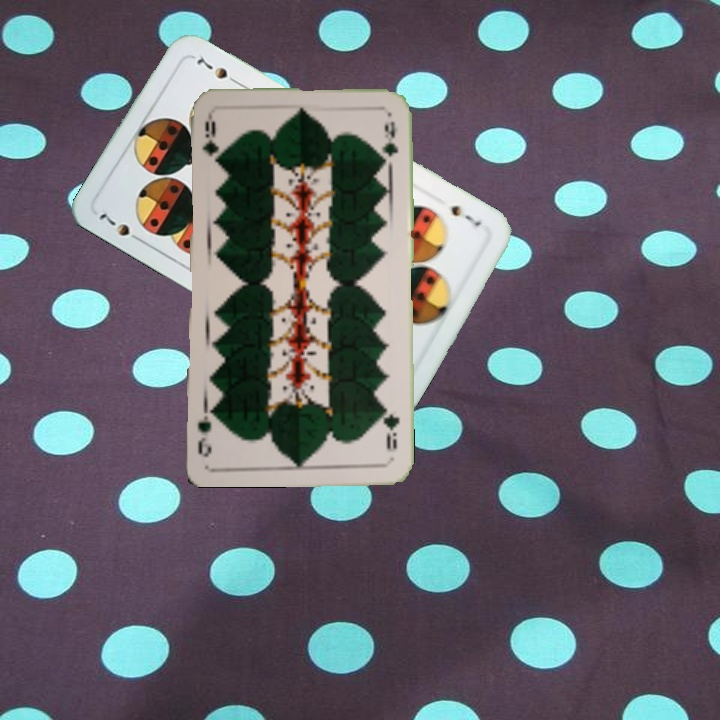G9: (379, 401, 402, 452), (198, 112, 219, 159)
S7: (94, 209, 146, 246), (446, 201, 484, 229)
